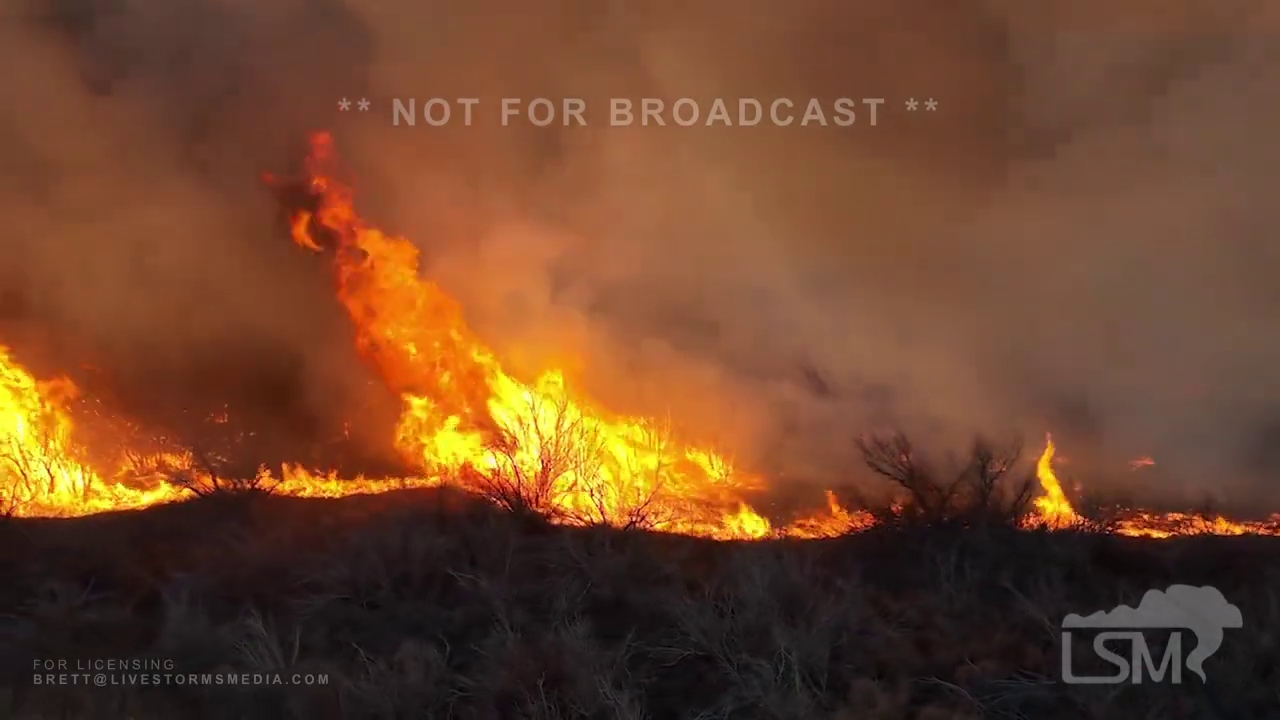forest_fire: (255, 132, 874, 538), (0, 347, 216, 516), (1024, 438, 1079, 526), (1112, 510, 1279, 535), (266, 177, 274, 181), (1144, 461, 1145, 463)
